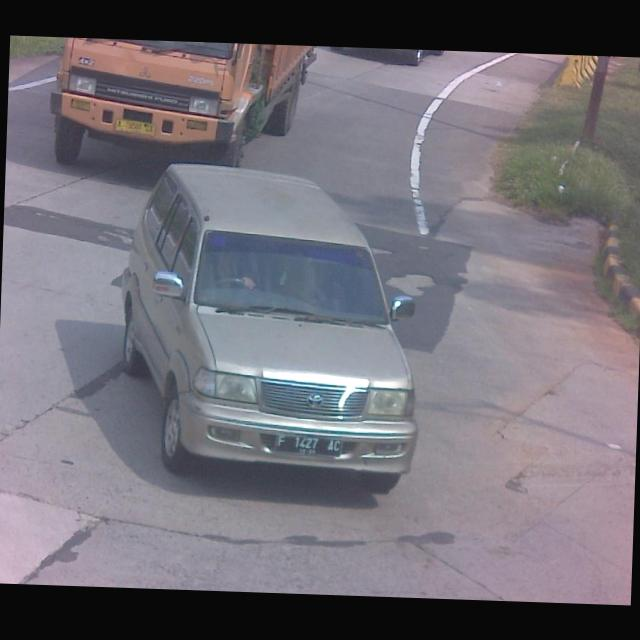plate: (273, 430, 343, 458)
